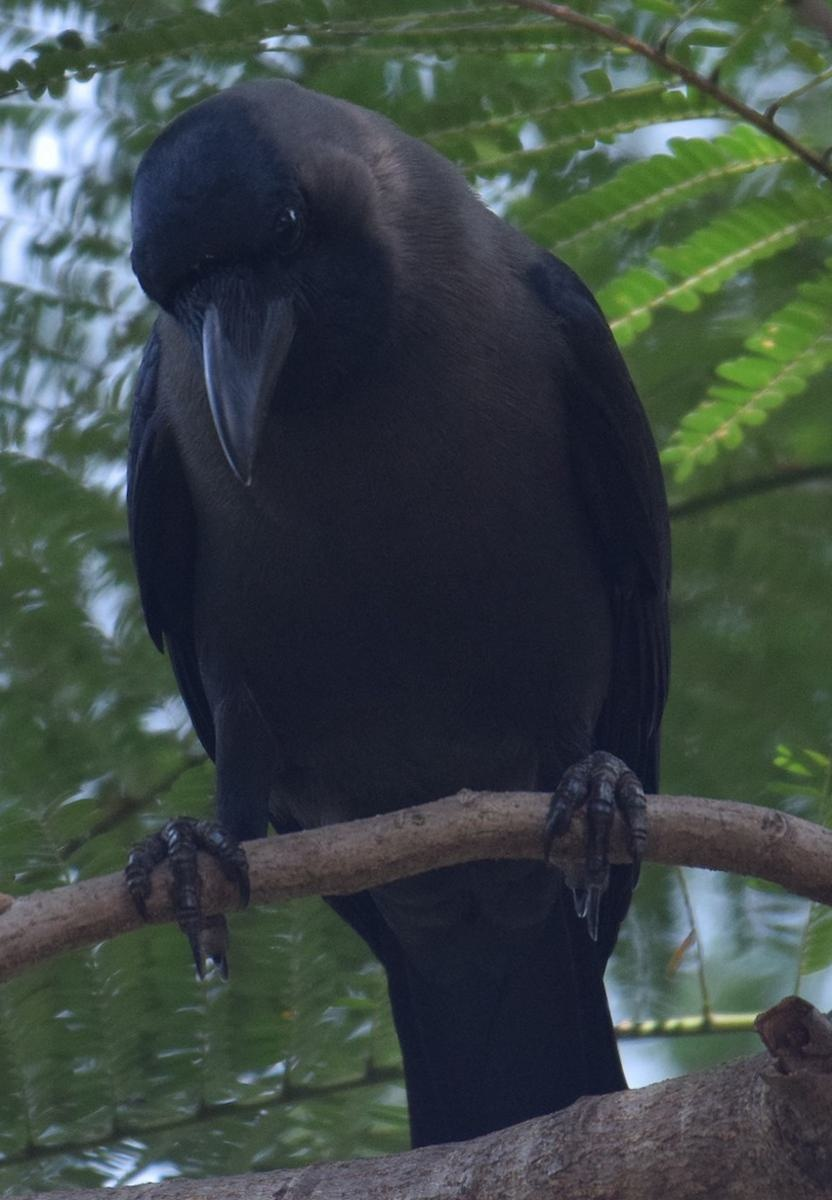crow: (109, 62, 726, 1176)
